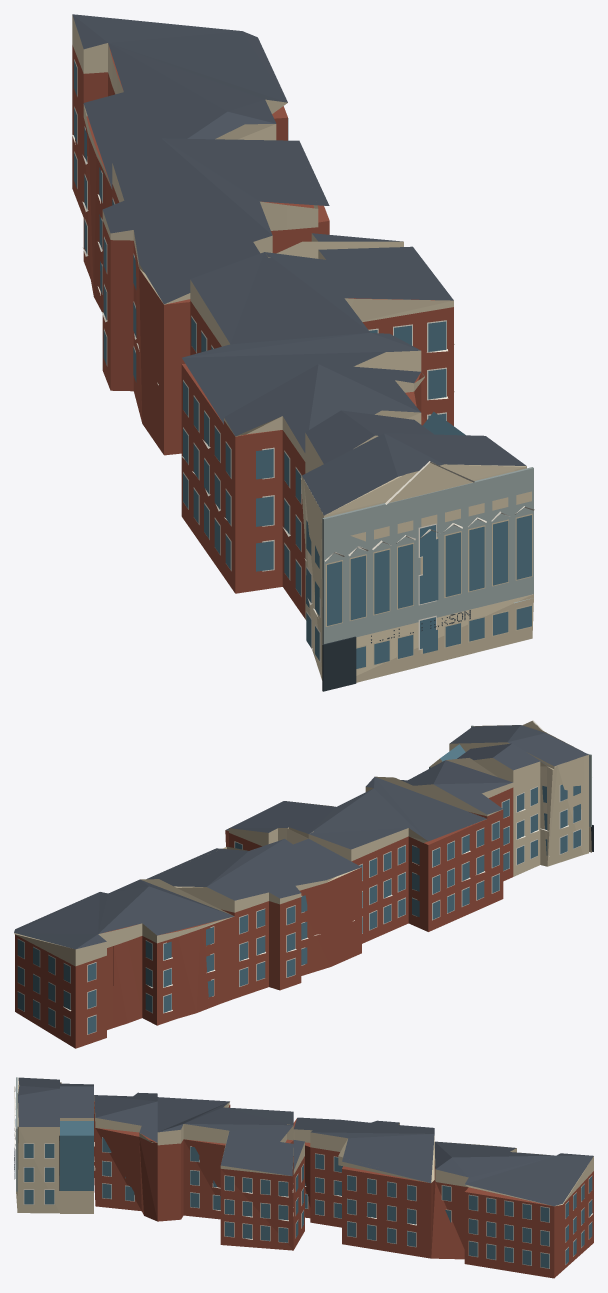
Rendered from allard-pierson.lod1.glb.
3 renders of one model, top to bottom at view 1: azimuth 30°, elevation 25°; view 2: azimuth 150°, elevation 25°; view 3: azimuth 270°, elevation 25°, orthographic. The views are drawn at different scales.
Visible parts, largest first — view 1: allard-pierson; view 2: allard-pierson; view 3: allard-pierson.
Boxes of the visible parts, <box> form: allard-pierson: <box>72,14,534,691</box>; allard-pierson: <box>14,720,593,1048</box>; allard-pierson: <box>14,1077,593,1278</box>.
Bounding box in the file's own units: 54.39 × 22.52 × 115.
